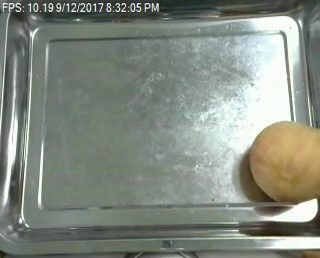Peach: (248, 121, 320, 204)
